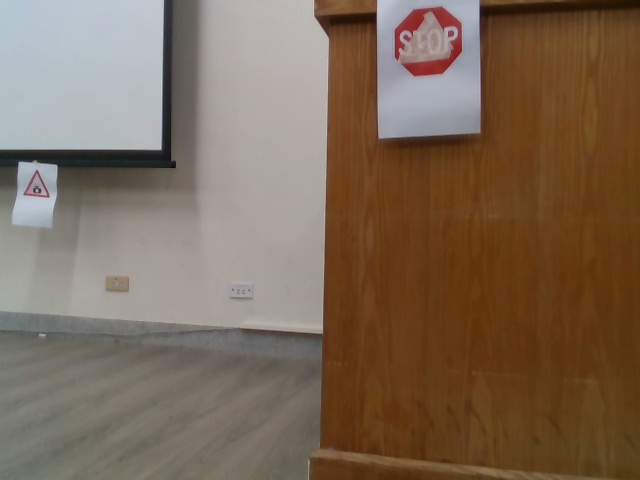stop: (391, 4, 467, 82)
